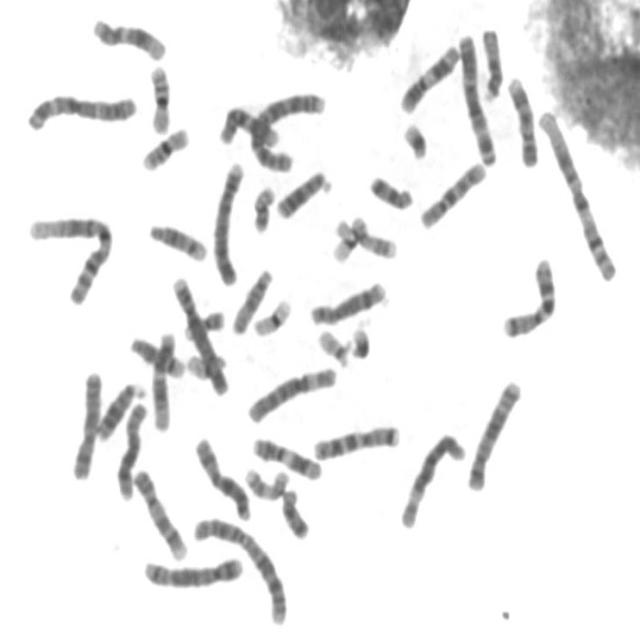A1: (534, 103, 620, 284), (22, 207, 116, 307)
A2: (188, 510, 290, 627), (245, 86, 328, 175)
A3: (453, 26, 500, 167), (20, 86, 140, 133)
B4: (168, 270, 230, 398), (208, 156, 247, 288)
B5: (464, 373, 524, 493), (139, 551, 246, 591)
C10: (415, 156, 490, 232), (215, 99, 283, 149)
C11: (395, 38, 462, 116), (248, 431, 326, 482)
C12: (87, 12, 169, 62), (148, 326, 178, 433)
C6: (396, 426, 468, 532), (243, 359, 340, 426)
C7: (498, 251, 560, 340), (309, 418, 403, 462)
C8: (305, 275, 389, 327), (112, 396, 150, 502)
C9: (129, 463, 189, 563), (503, 71, 541, 168)
D13: (92, 376, 148, 443), (272, 165, 334, 221)
D14: (124, 331, 192, 382), (144, 216, 210, 264)
D15: (227, 262, 275, 336), (477, 21, 505, 103)
E16: (137, 120, 192, 173), (145, 58, 173, 135)
E17: (347, 210, 400, 261), (240, 461, 290, 502)
E18: (277, 482, 312, 542), (365, 170, 415, 212)
F19: (327, 210, 365, 265), (249, 292, 294, 338)
F20: (179, 305, 227, 343), (248, 179, 278, 235)
G21: (398, 117, 431, 162), (345, 321, 373, 361)
G22: (314, 324, 353, 369), (183, 346, 228, 382)
X: (190, 431, 253, 522), (66, 364, 105, 482)
